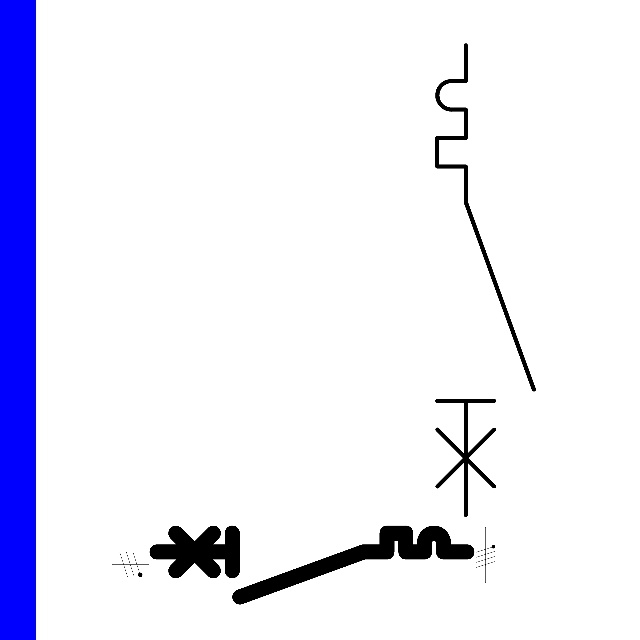interruptor_termomagnetico: (425, 33, 546, 527), (148, 525, 474, 605)
